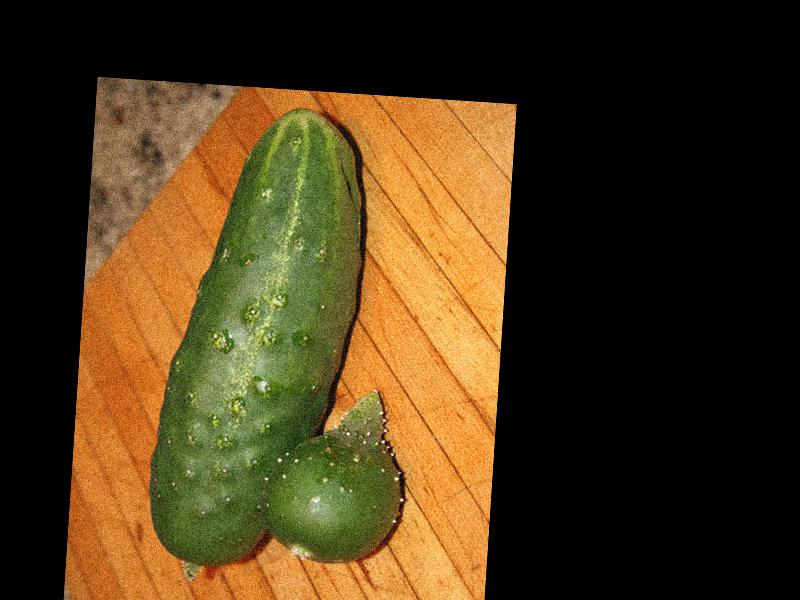Cucumber: (144, 99, 372, 575)
